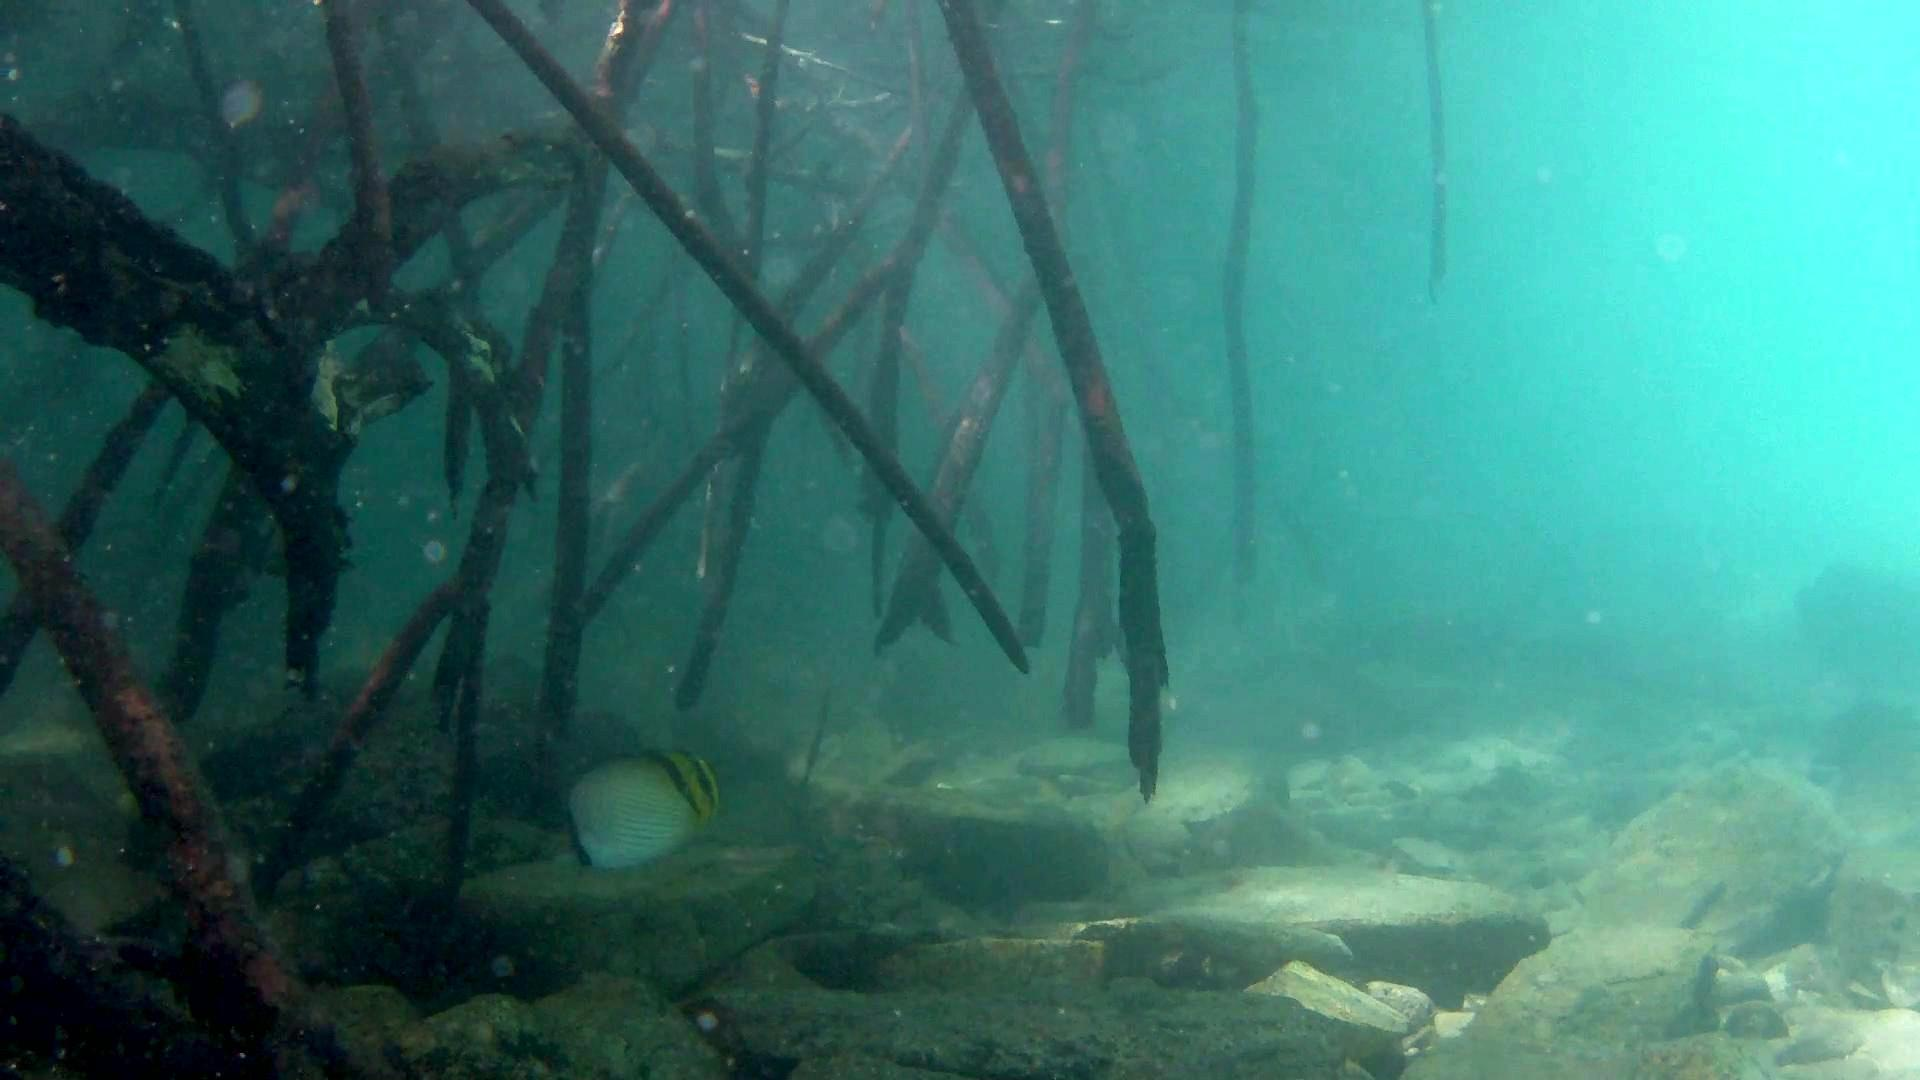chaetodon vagabundus: (553, 747, 723, 872)
